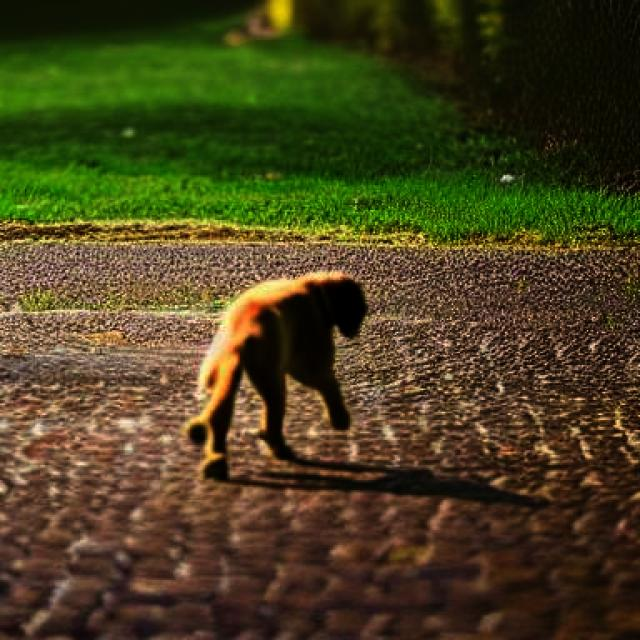Dog: (186, 272, 368, 479)
